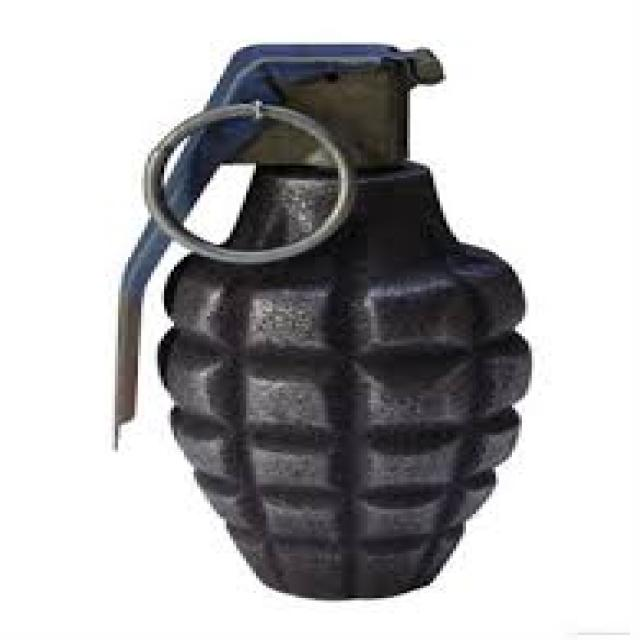grenade: (101, 40, 541, 606)
